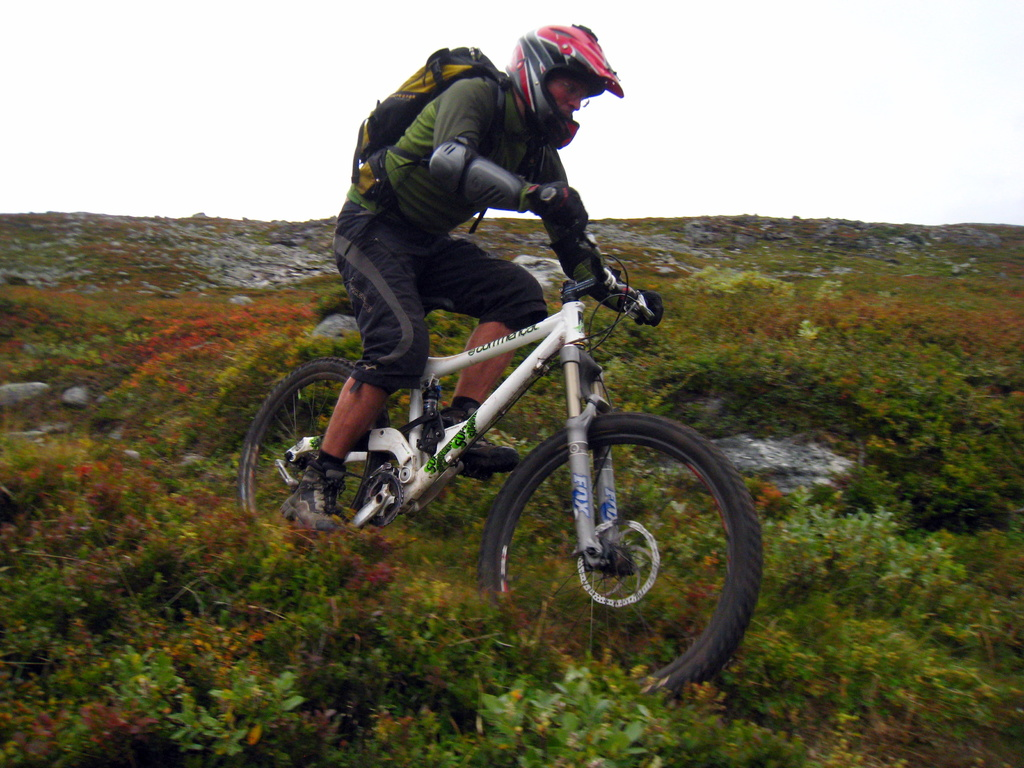Bike: (243, 185, 759, 698)
